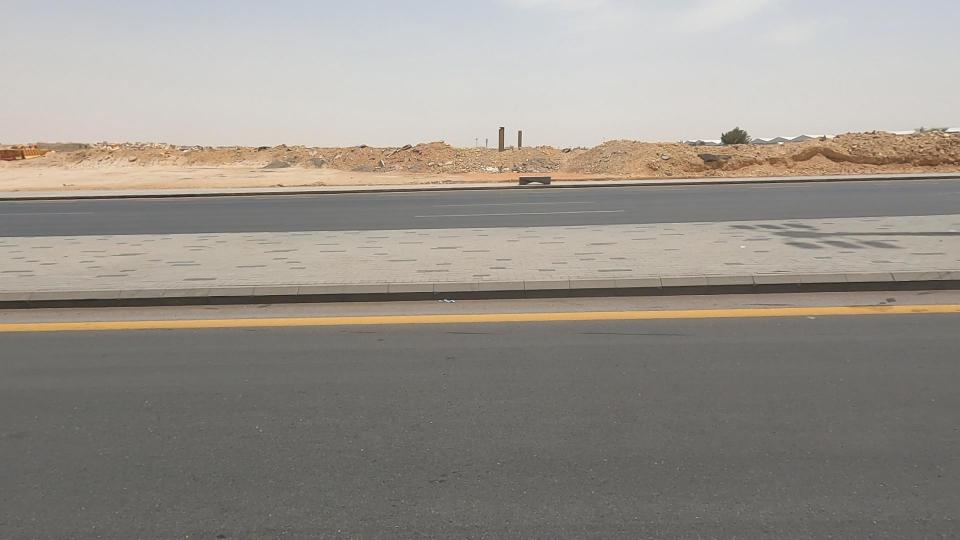SAND_ON_ROAD: (515, 123, 756, 195), (343, 127, 568, 187)
